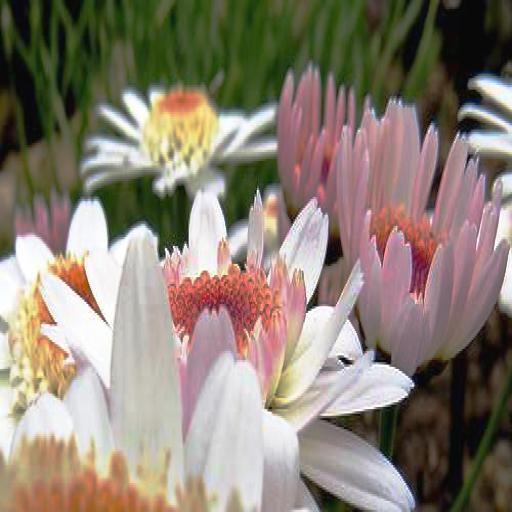daisy: (80, 221, 407, 512), (340, 94, 502, 362), (87, 78, 277, 195), (278, 56, 364, 235)
